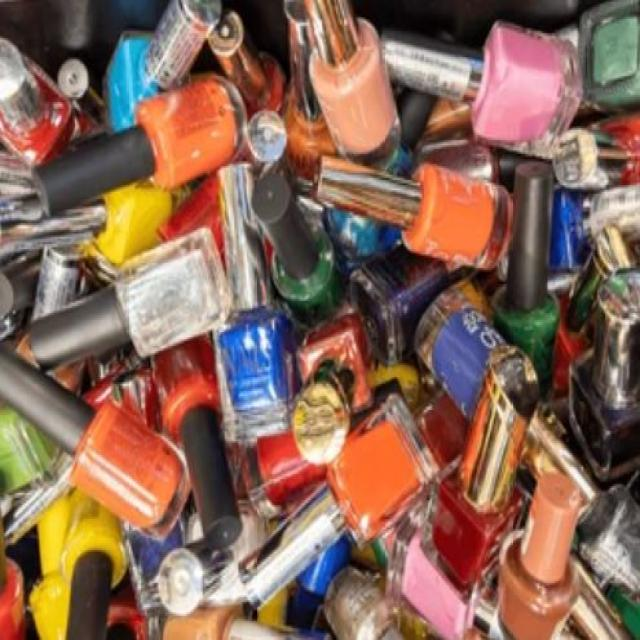electronic: (31, 70, 246, 216), (26, 227, 232, 377), (424, 347, 536, 593), (315, 149, 515, 277), (213, 162, 295, 446)
